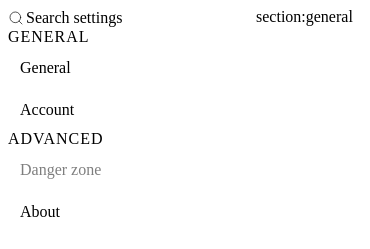
Scenario: SettingsShell › selects on click and swaps the detail body (uncontrolled)
This screenshot has width=370, height=249.
Click the tab "About" at (132, 212), box [8,192,256,232]
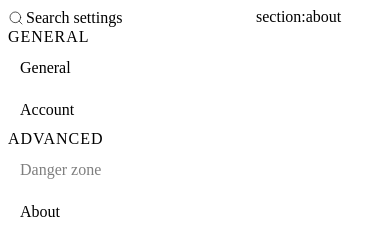
Result: the text with test id "detail" reads "section:about" at [256,8,341,25]
